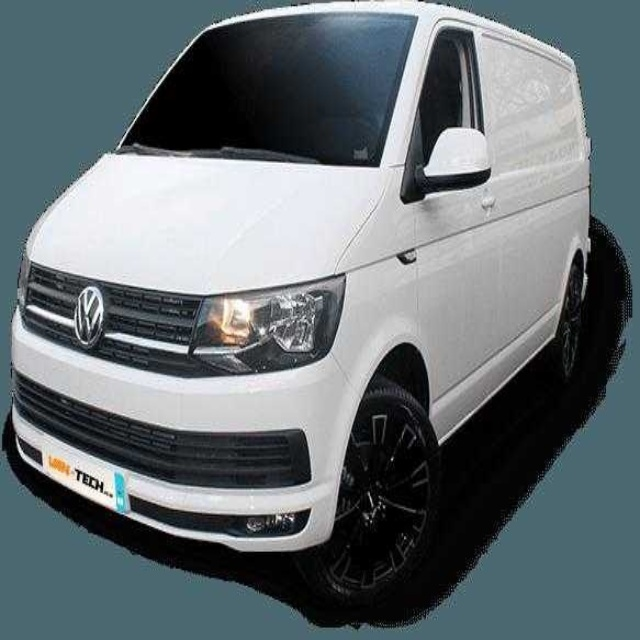Van: (11, 2, 592, 604)
